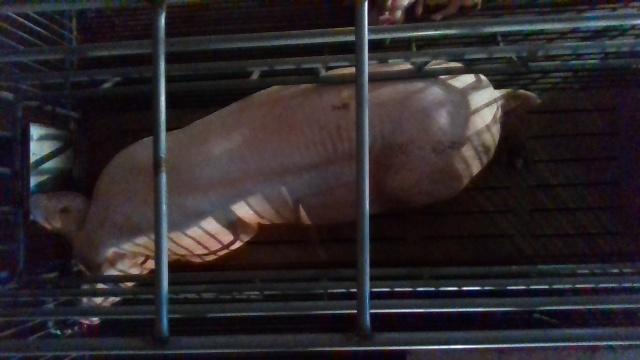sow-sit: (28, 57, 540, 326)
